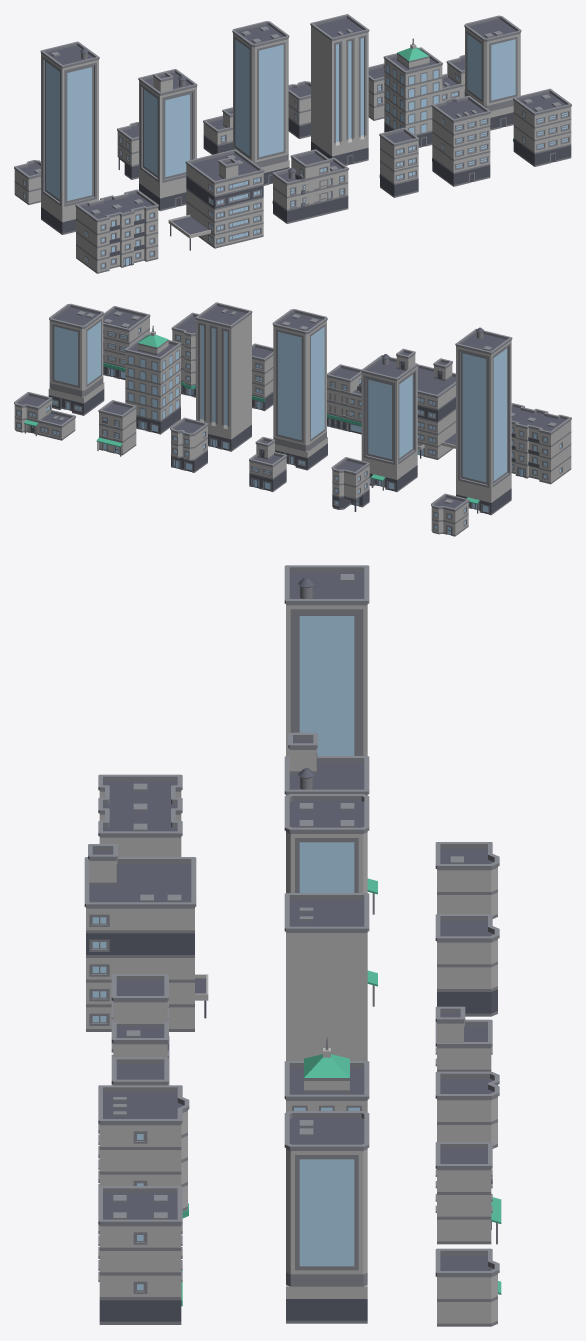
File: City Kit.fbx
3 views of the same model, one above another, from view 1: azimuth 30°, elevation 25°; view 2: azimuth 150°, elevation 25°; view 3: azimuth 270°, elevation 25° (orthographic). The views are drawn at different scales.
Parts seen in each view (by area): view 1: skyscraperD, skyscraperF, skyscraperB, skyscraperC, large_buildingG, large_buildingA, skyscraperA, large_buildingE, skyscraperE, large_buildingD, large_buildingF, large_buildingB (+7 smaller); view 2: skyscraperD, skyscraperB, skyscraperF, skyscraperC, skyscraperA, skyscraperE, large_buildingA, large_buildingG, large_buildingD, small_buildingE, small_buildingD, small_buildingA (+7 smaller); view 3: skyscraperA, large_buildingG, skyscraperD, skyscraperF, large_buildingD, large_buildingE, skyscraperB, large_buildingA, small_buildingD, small_buildingC, small_buildingE, skyscraperE (+7 smaller).
Part boxes in pixels (box(x1,y1,x2,y2)): skyscraperD: box(40, 41, 99, 234); skyscraperF: box(310, 14, 369, 165); skyscraperB: box(232, 21, 289, 185); skyscraperC: box(138, 69, 197, 211); large_buildingG: box(168, 149, 264, 250); large_buildingA: box(75, 189, 158, 273); skyscraperA: box(464, 15, 521, 130); large_buildingE: box(431, 95, 490, 186); skyscraperE: box(383, 38, 442, 147); large_buildingD: box(513, 88, 571, 166); large_buildingF: box(272, 157, 348, 223); large_buildingB: box(379, 127, 419, 197); skyscraperD: box(455, 327, 512, 515); skyscraperB: box(272, 309, 327, 470); skyscraperF: box(195, 302, 252, 451); skyscraperC: box(361, 348, 417, 492); skyscraperA: box(48, 303, 104, 415); skyscraperE: box(124, 325, 181, 434); large_buildingA: box(511, 403, 571, 484); large_buildingG: box(417, 358, 455, 459); large_buildingD: box(103, 306, 150, 379); small_buildingE: box(14, 392, 75, 440); small_buildingD: box(96, 400, 136, 456); small_buildingA: box(170, 417, 208, 472); skyscraperA: box(284, 1111, 369, 1323); large_buildingG: box(84, 844, 208, 1031); skyscraperD: box(284, 565, 377, 914); skyscraperF: box(284, 893, 369, 1060); large_buildingD: box(98, 1186, 182, 1324); large_buildingE: box(98, 1085, 189, 1218); skyscraperB: box(284, 794, 369, 892); large_buildingA: box(98, 774, 182, 856); small_buildingD: box(435, 1142, 501, 1244); small_buildingC: box(435, 914, 499, 1016); small_buildingE: box(435, 1248, 501, 1326); skyscraperE: box(284, 1037, 369, 1112).
Size of the model in its own units: 1561 by 550 by 612.
